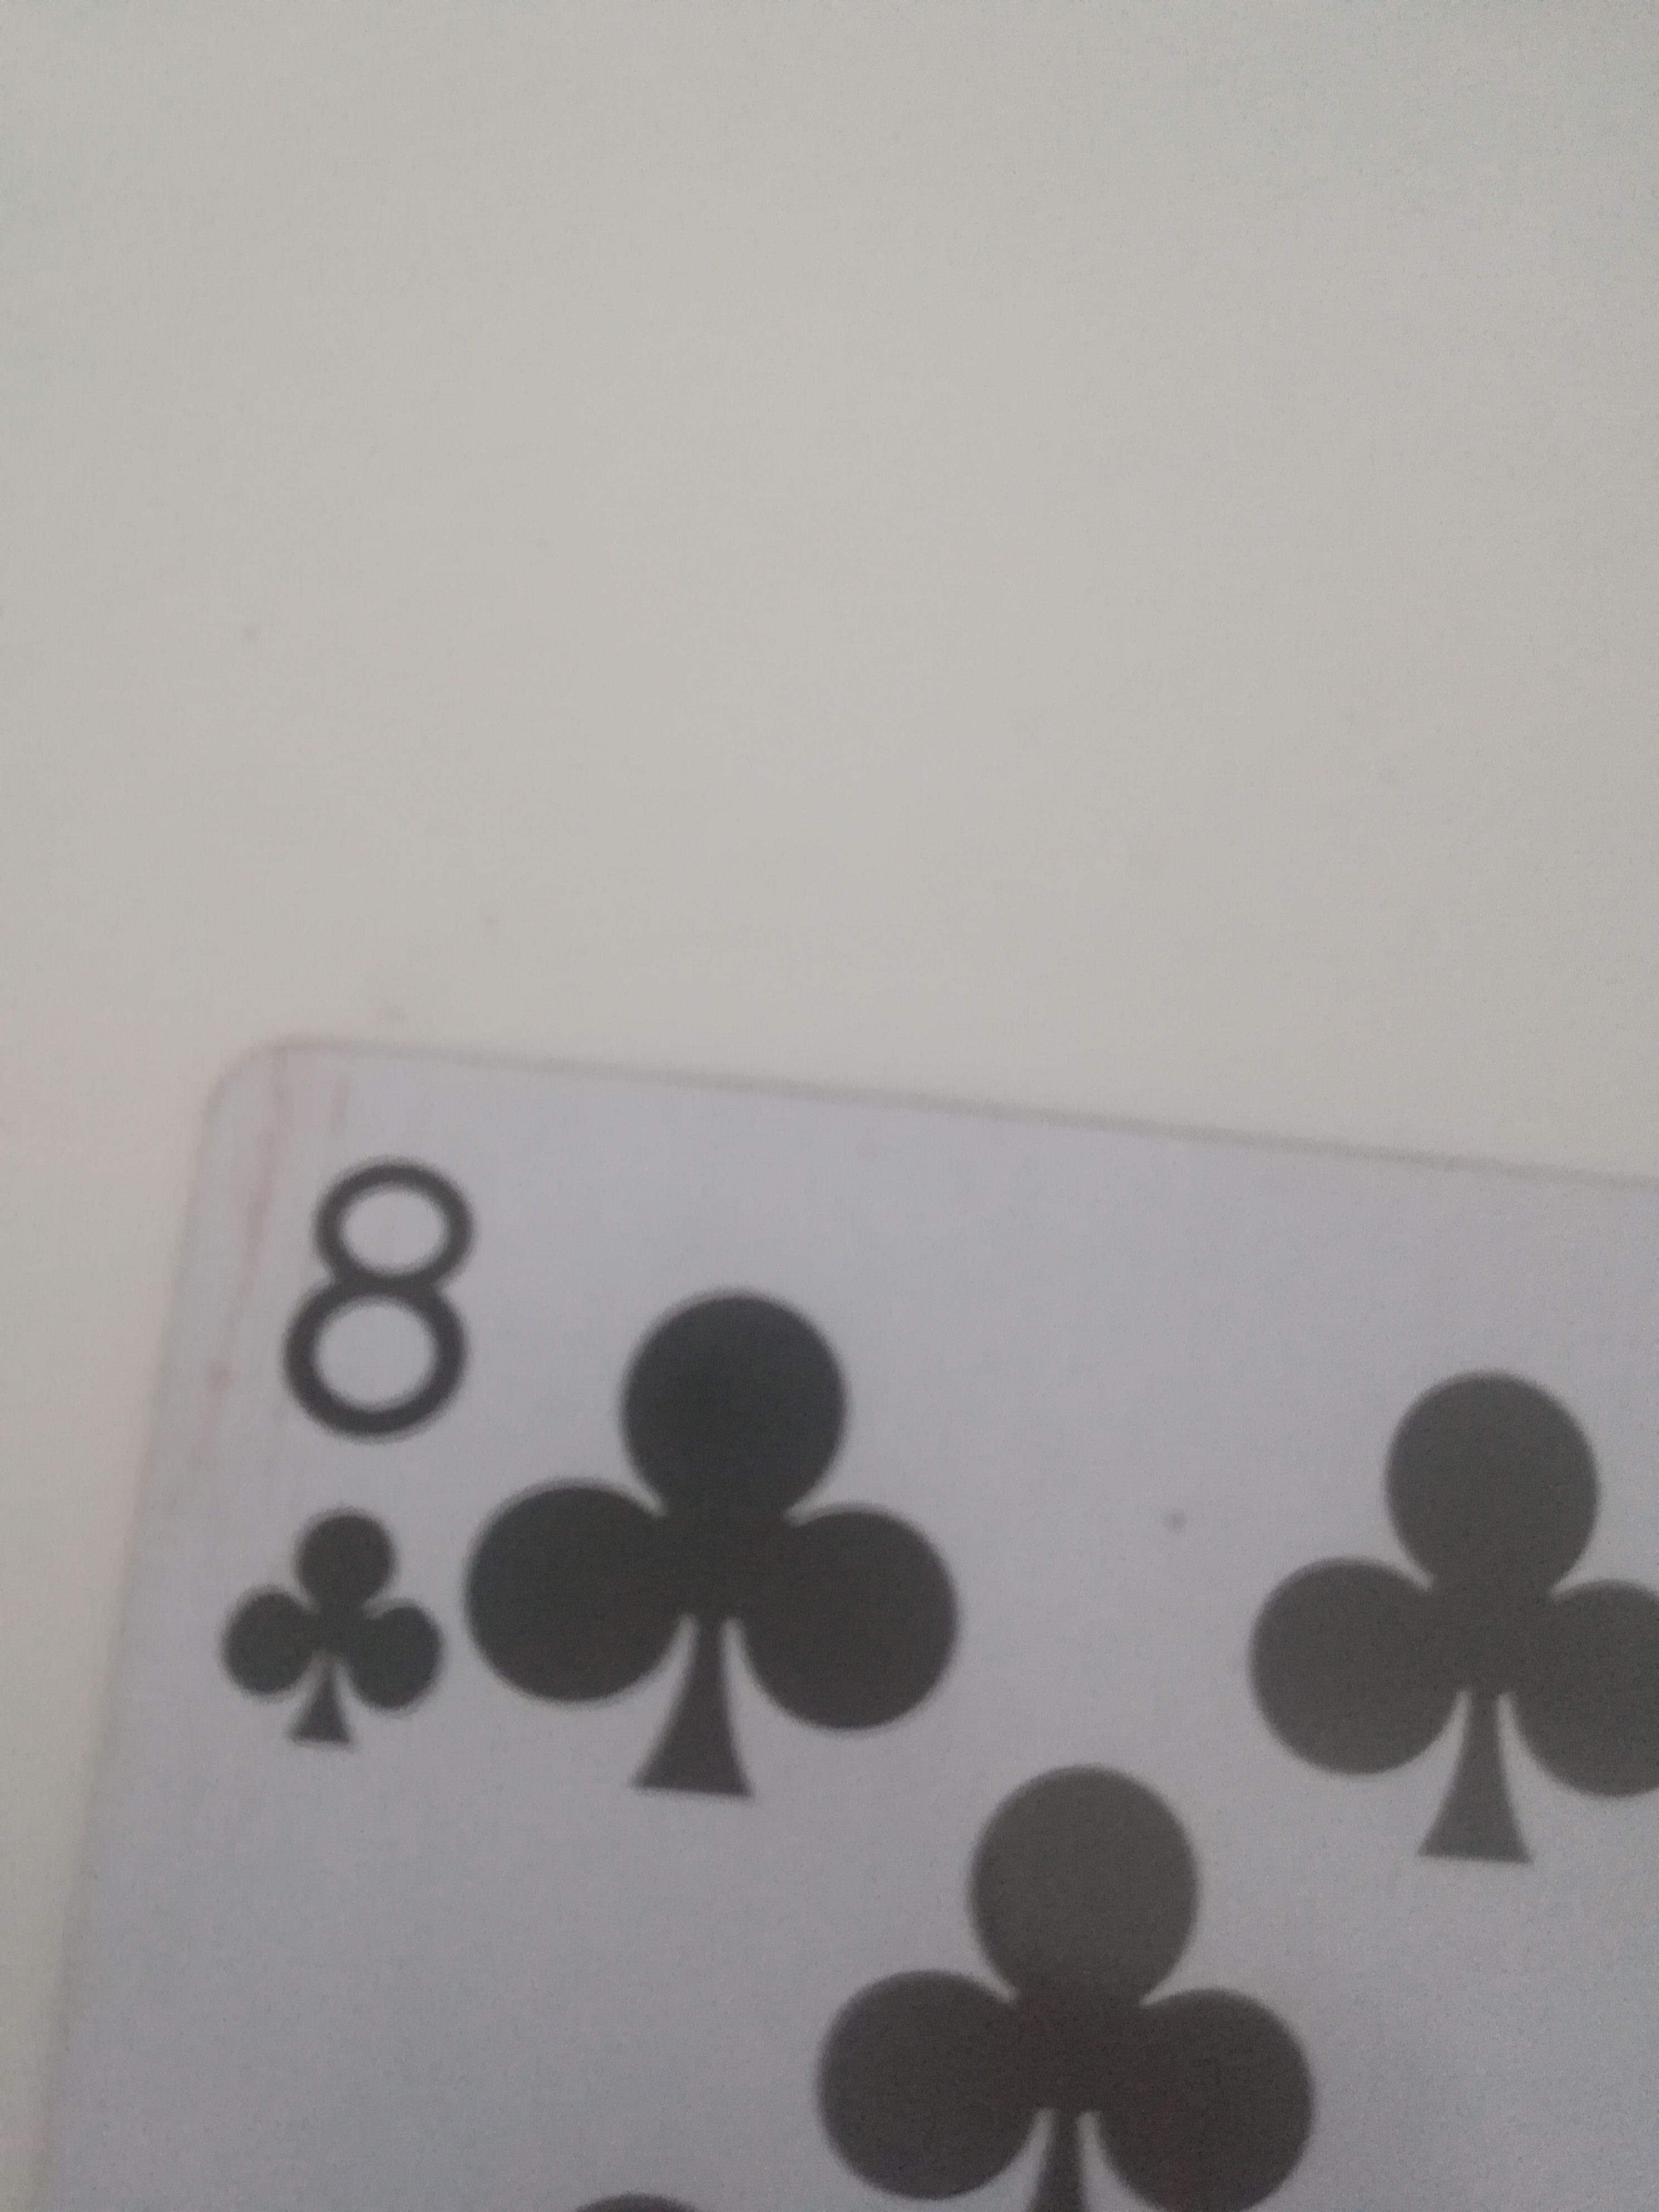8C: (54, 1043, 1647, 2212)
